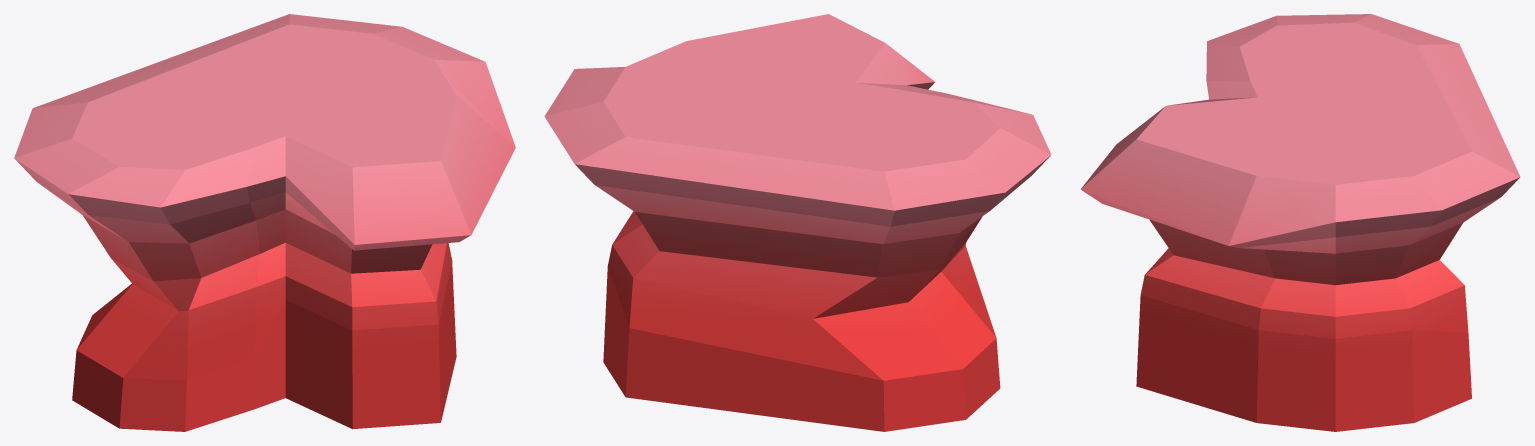
The model's file is MOD_BigRock2.fbx.
3 views of the same model, side by side, from view 1: azimuth 30°, elevation 25°; view 2: azimuth 150°, elevation 25°; view 3: azimuth 270°, elevation 25° (orthographic). The views are drawn at different scales.
Visible parts, largest first — view 1: MOD_BigRock2; view 2: MOD_BigRock2; view 3: MOD_BigRock2.
Boxes of the visible parts, x1=… form: MOD_BigRock2: x1=14, y1=14, x2=515, y2=431; MOD_BigRock2: x1=544, y1=14, x2=1051, y2=431; MOD_BigRock2: x1=1080, y1=14, x2=1520, y2=431.
Bounding box in the file's own units: 13.6 × 7.53 × 12.15.
Materials: 1 (1 with a texture image).
